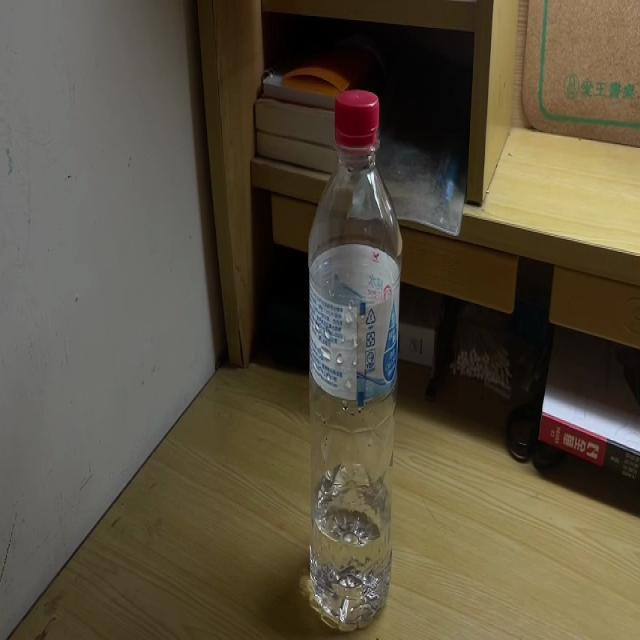Water: (308, 88, 402, 636)
